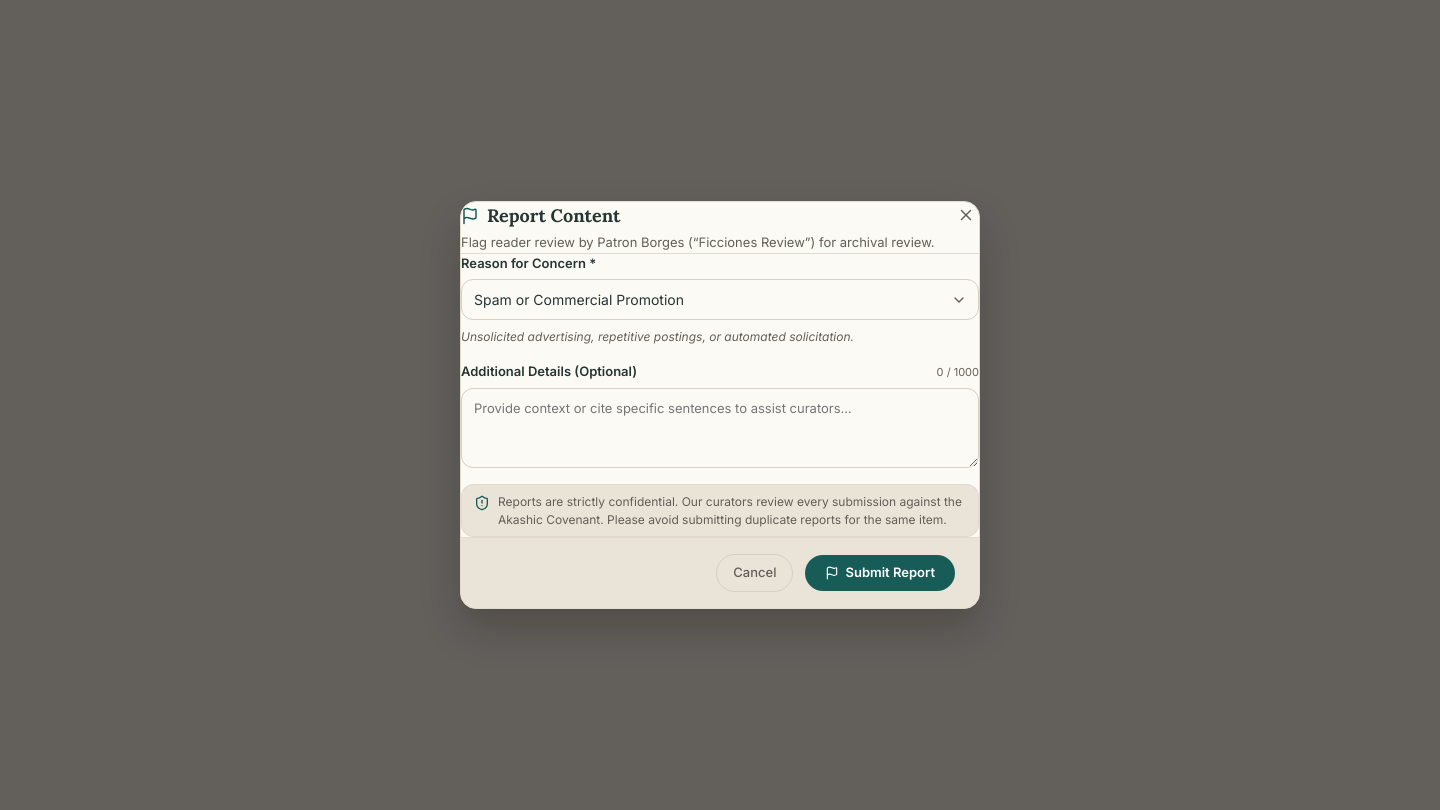
Test: ReportContentModal Component › updates explanation textarea and tracks character count
The image size is (1440, 810).
Replace the text in the text box with placeholder "Provide context or cite specific sentences" with "Contains severe ending spoiler on page 114.". click: [720, 428]
box: [461, 388, 979, 468]
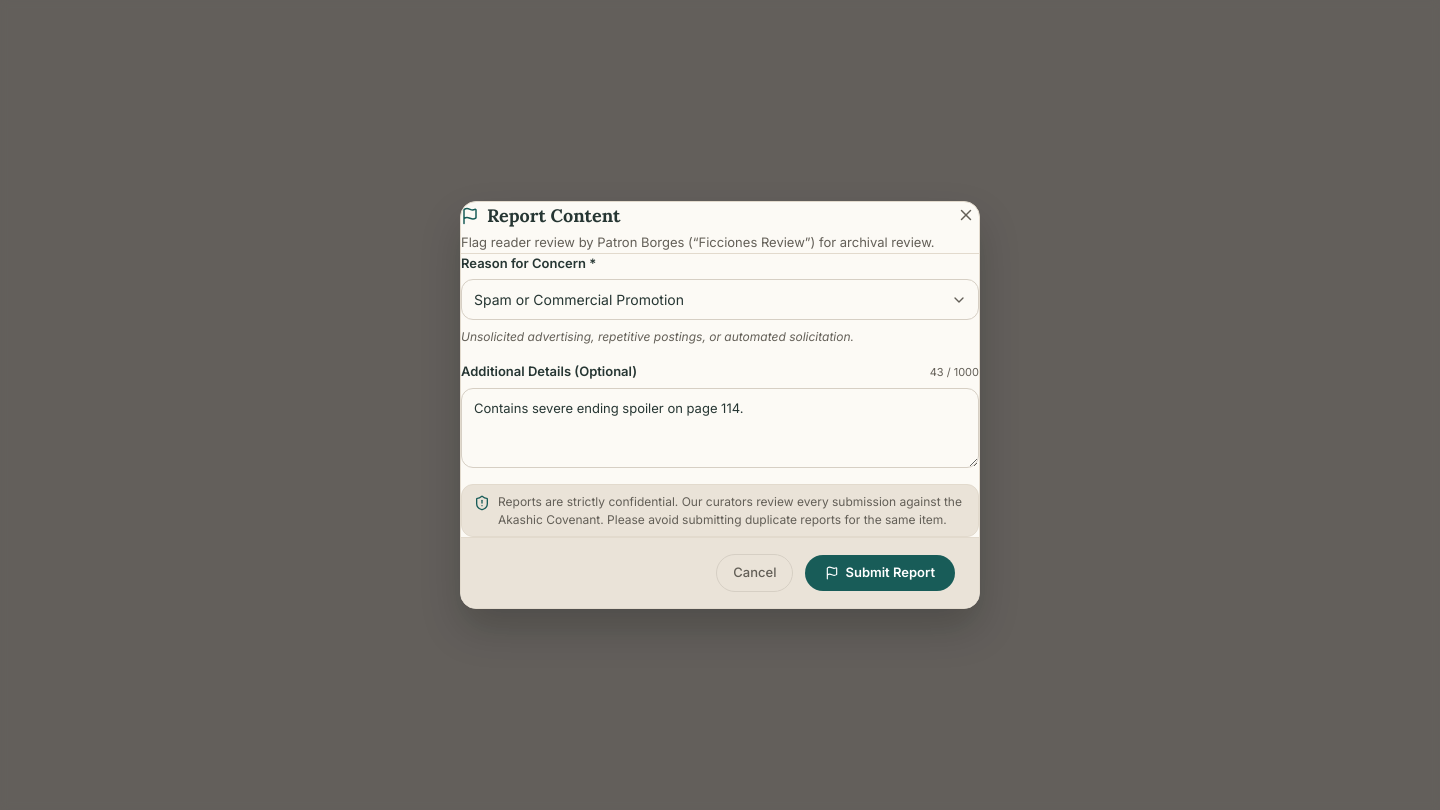
Now the text "43 / 1000" is shown, box [930, 364, 979, 380]
